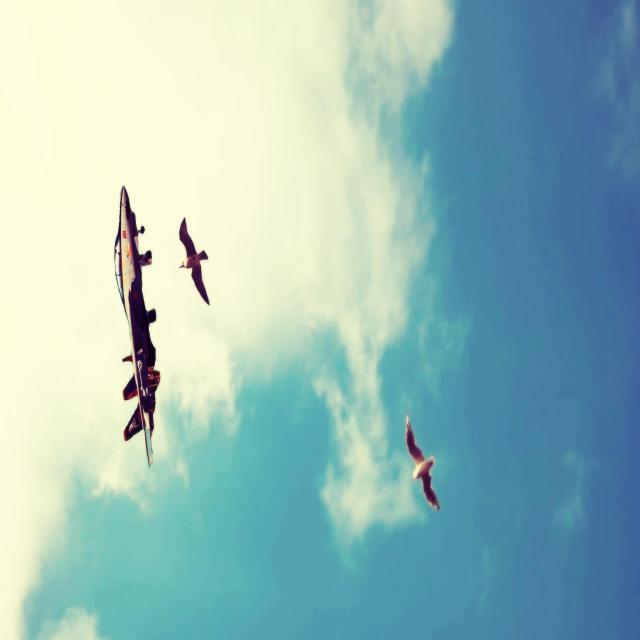airplane: (114, 184, 160, 468)
